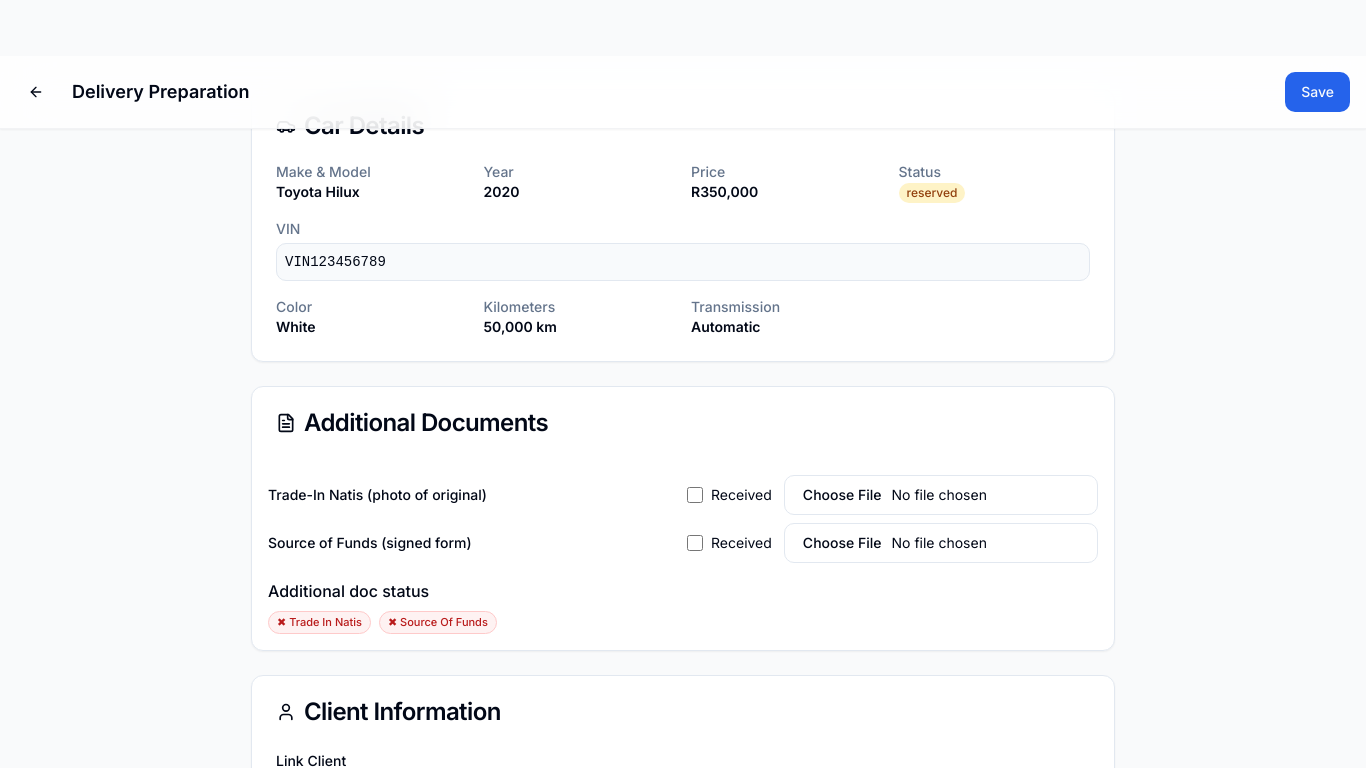
Test: DeliveryDetail › disables save button while saving
Click the button "Save" at (1318, 92), box [1285,72,1350,112]
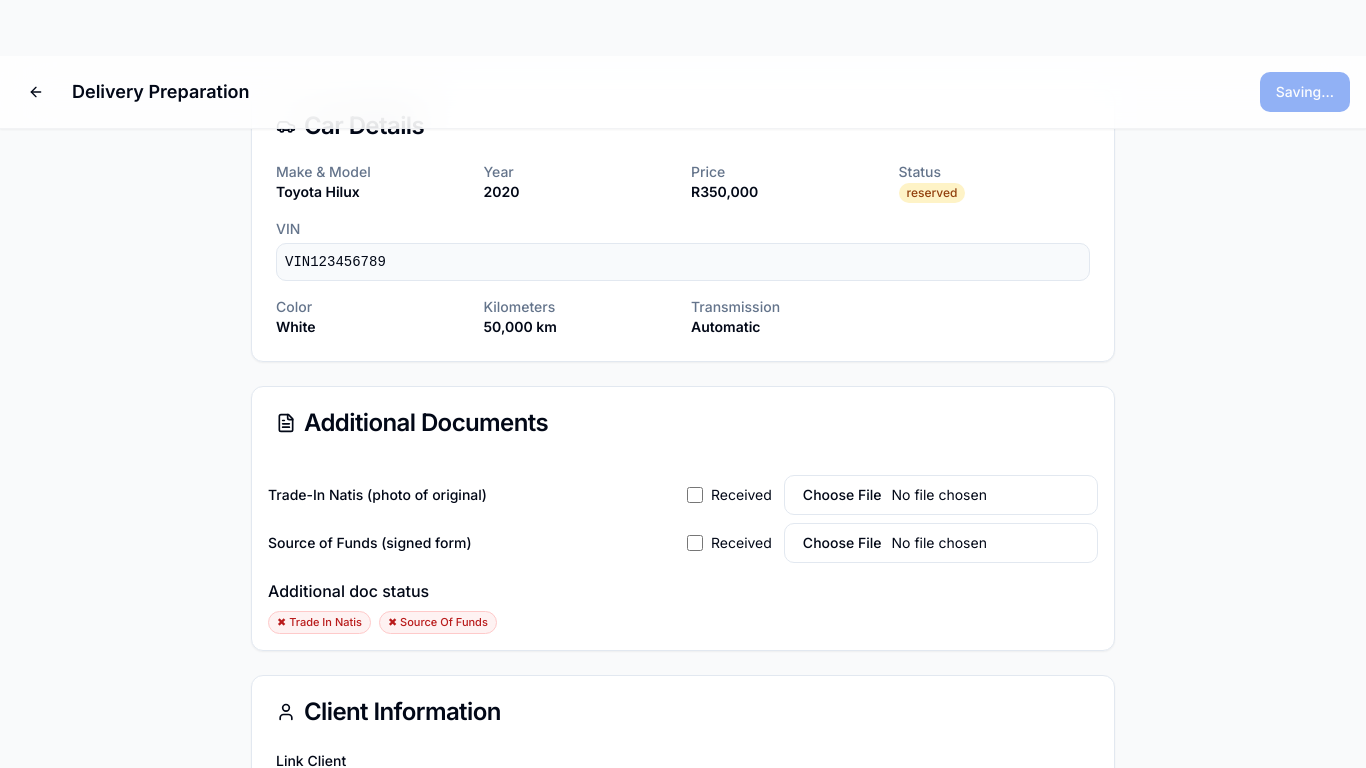
Now the button "Saving..." is disabled, box [1260,72,1350,112]
